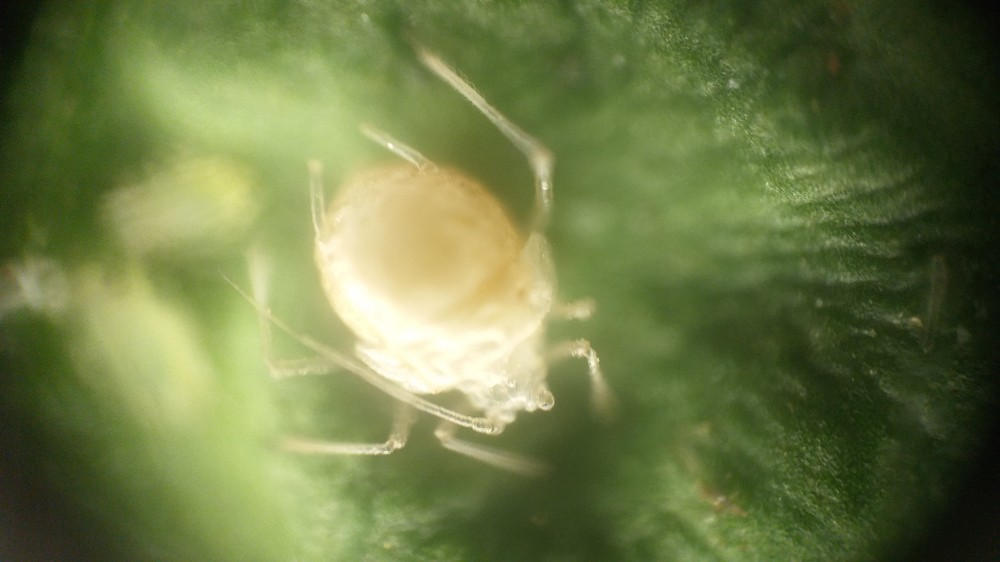Pulgon: (212, 16, 655, 497)
